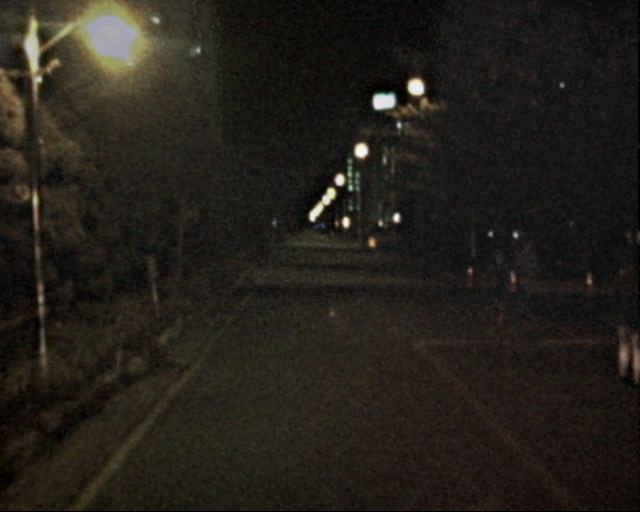person: (607, 250, 640, 377), (510, 237, 543, 318), (481, 248, 511, 322)
